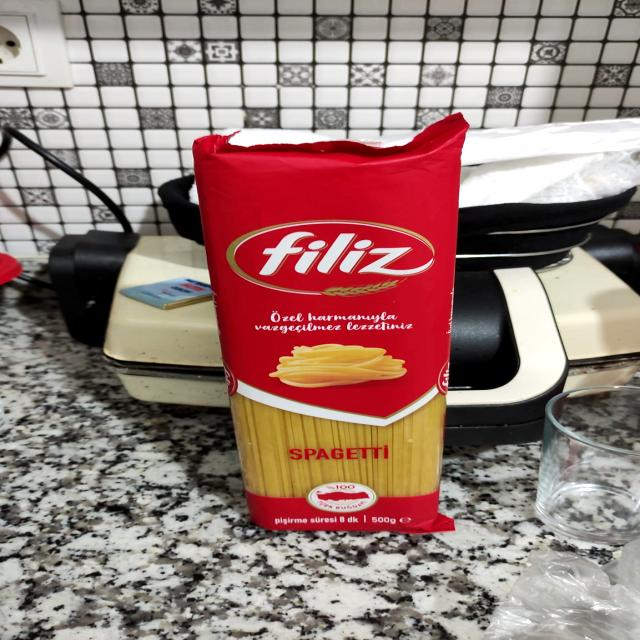spaghetti: (206, 133, 450, 534)
